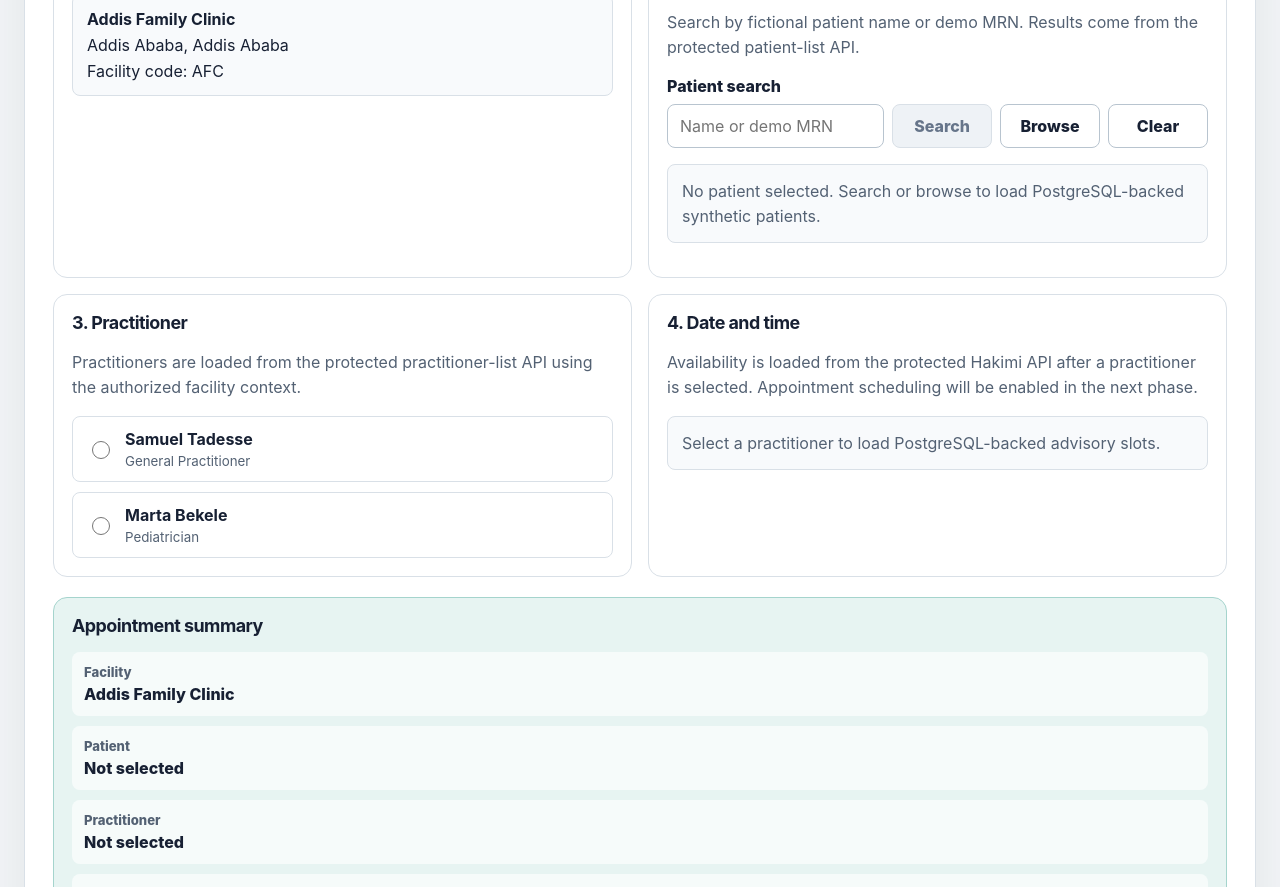
it: App workforce authentication shell › aborts stale availability requests and clears the selected slot when practitioner changes
The image size is (1280, 887).
(page scrolled)
Click the radio button labelled "Samuel Tadesse General Practitioner": (101, 450) [92,441,110,459]
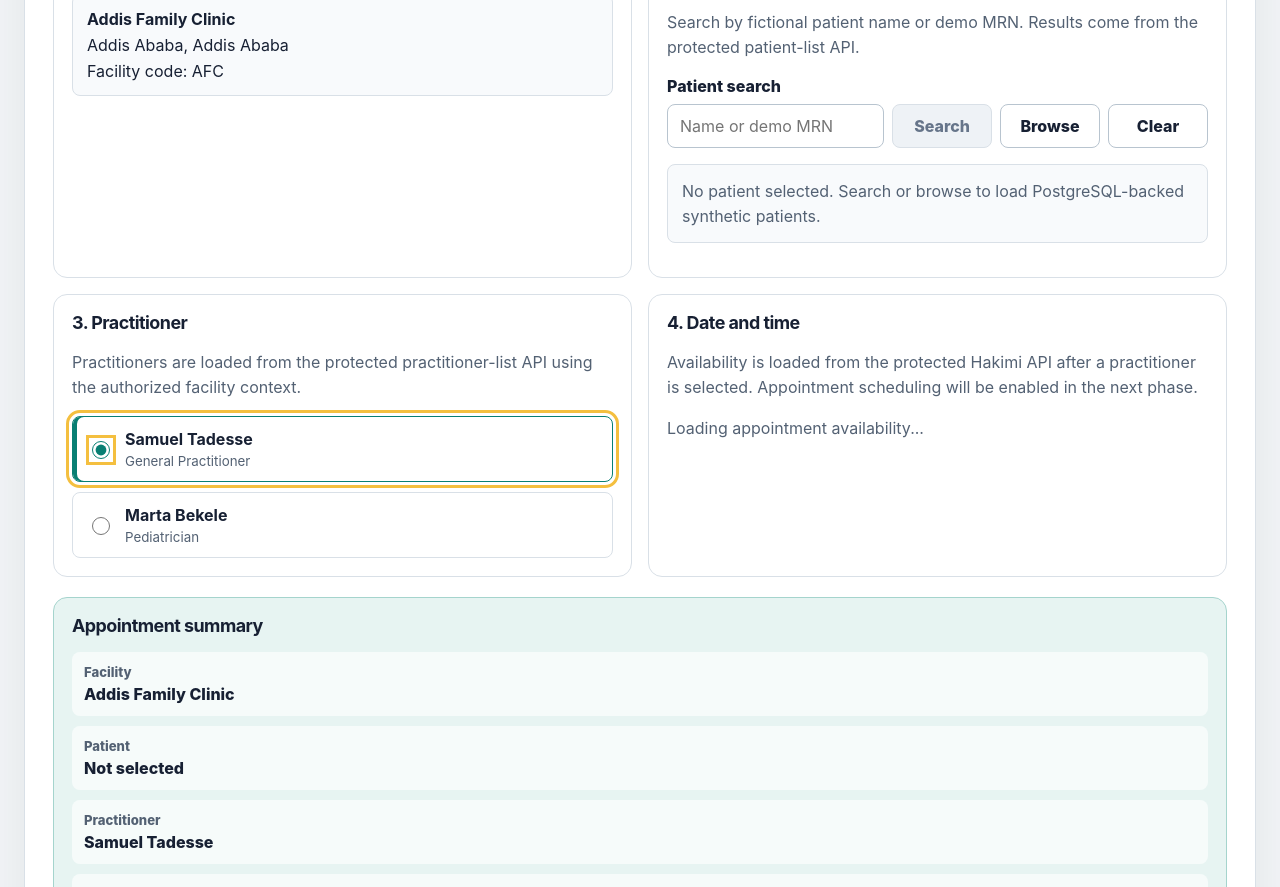
Click the radio button labelled "Marta Bekele Pediatrician": (101, 526) [92,517,110,535]
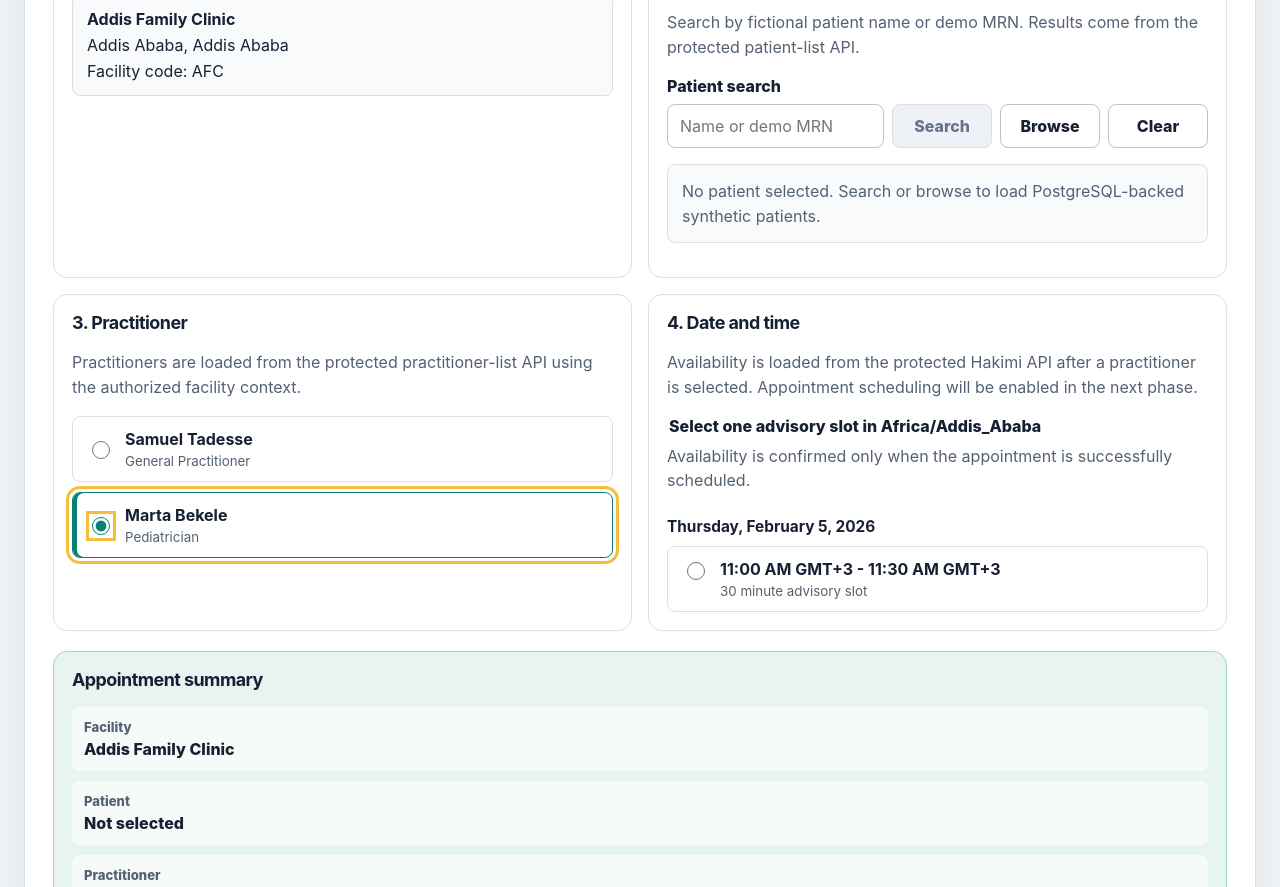
expect the radio button labelled "11:00 AM GMT+3 - 11:30 AM GMT+3 30 minute advisory slot" is not checked: met, box [687,562,705,580]
